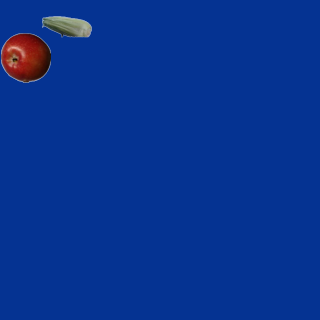Apple Braeburn: (0, 32, 50, 82)
Corn Husk: (41, 1, 91, 51)
